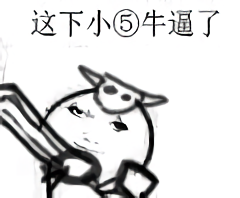dragon: (64, 105, 130, 152)
